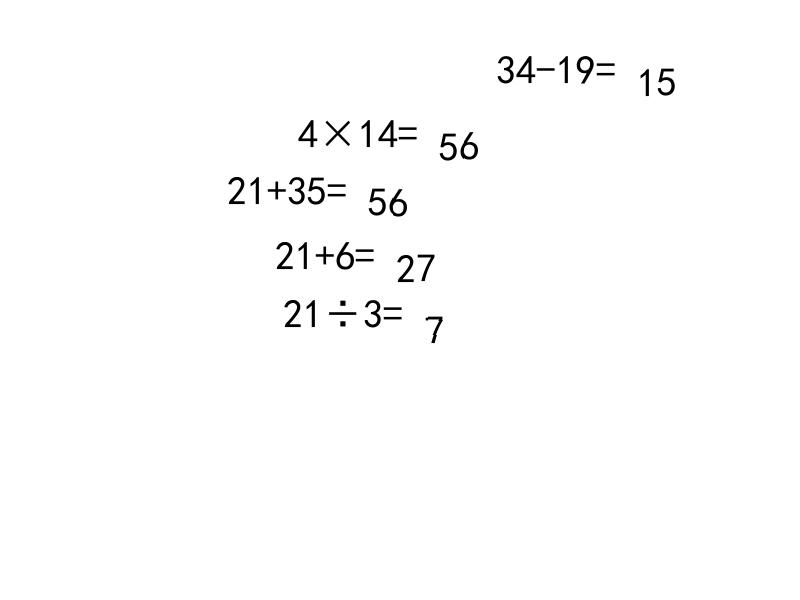+: (267, 170, 287, 199), (315, 235, 335, 264)
-: (536, 49, 556, 78)
1: (556, 49, 576, 78), (626, 49, 646, 78), (247, 170, 267, 199), (295, 235, 315, 264), (303, 293, 323, 322), (358, 113, 378, 141)
2: (227, 170, 247, 199), (275, 235, 295, 264), (385, 235, 405, 264), (283, 293, 303, 322)
3: (496, 49, 516, 78), (287, 170, 307, 199), (363, 293, 383, 322)
4: (516, 49, 536, 78), (298, 113, 318, 141), (378, 113, 398, 141)
5: (646, 49, 666, 78), (307, 170, 327, 199), (357, 170, 377, 199), (428, 113, 448, 141)
6: (377, 170, 397, 199), (335, 235, 355, 264), (448, 113, 468, 141)
7: (405, 235, 425, 264), (413, 293, 433, 322)
9: (576, 49, 596, 78)
=: (596, 49, 616, 78), (327, 170, 347, 199), (355, 235, 375, 264), (383, 293, 403, 322), (398, 113, 418, 141)
×: (318, 113, 358, 141)
÷: (323, 293, 363, 322)
